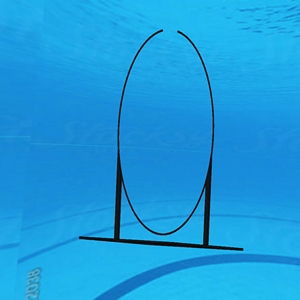circle: (77, 25, 247, 256)
